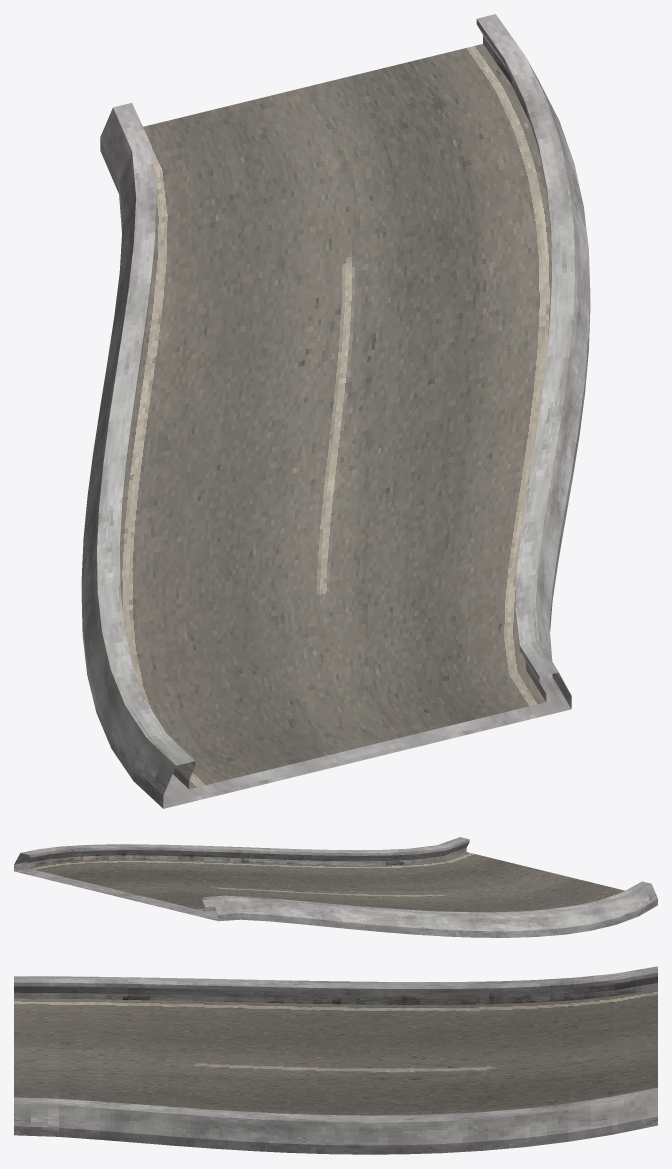
The model's file is chicane-right1x2.glb.
3 views of the same model, one above another, from view 1: azimuth 30°, elevation 25°; view 2: azimuth 150°, elevation 25°; view 3: azimuth 270°, elevation 25° (orthographic). The views are drawn at different scales.
Visible parts, largest first — view 1: road-Chicane-Flat-BiSlopeUp-Up2-Right1-Size2; view 2: road-Chicane-Flat-BiSlopeUp-Up2-Right1-Size2; view 3: road-Chicane-Flat-BiSlopeUp-Up2-Right1-Size2.
Part boxes in pixels (x1=…): road-Chicane-Flat-BiSlopeUp-Up2-Right1-Size2: x1=81, y1=14, x2=590, y2=808; road-Chicane-Flat-BiSlopeUp-Up2-Right1-Size2: x1=14, y1=837, x2=657, y2=937; road-Chicane-Flat-BiSlopeUp-Up2-Right1-Size2: x1=14, y1=966, x2=657, y2=1154.
Bounding box in the file's own units: 2 × 0.5938 × 2.
2 materials, 2 textured.
